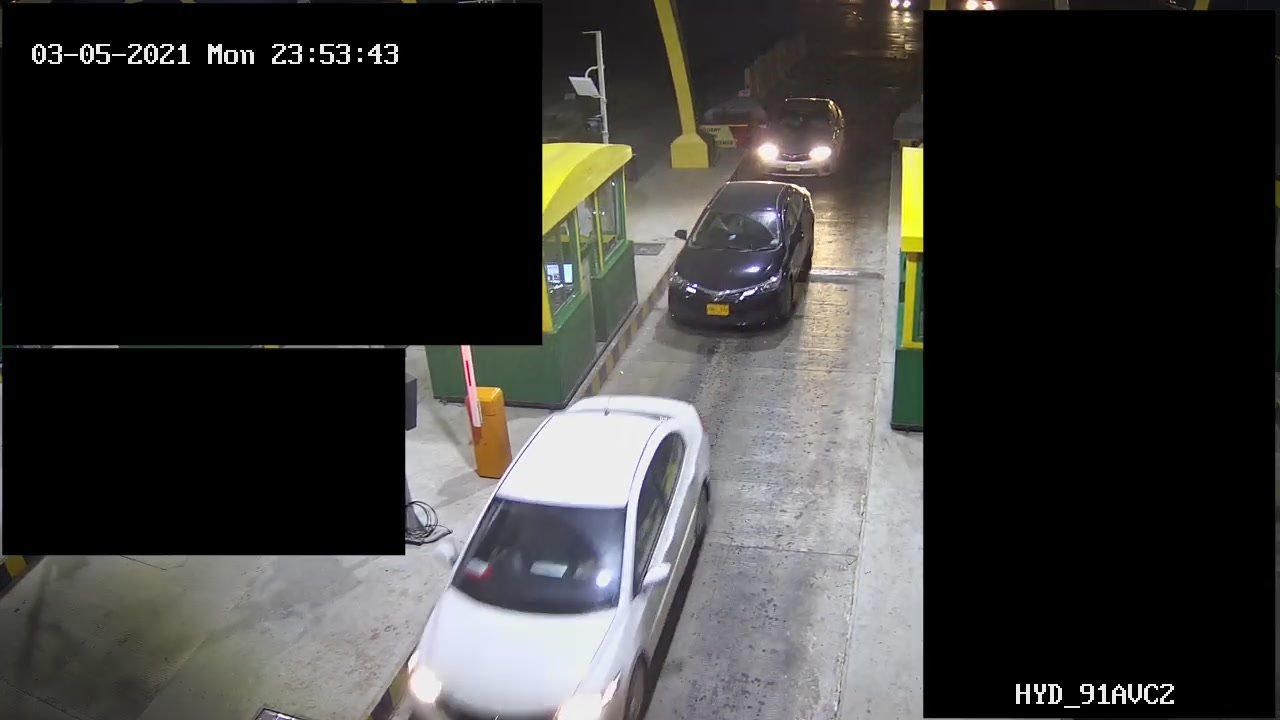F1: (660, 177, 833, 346)
